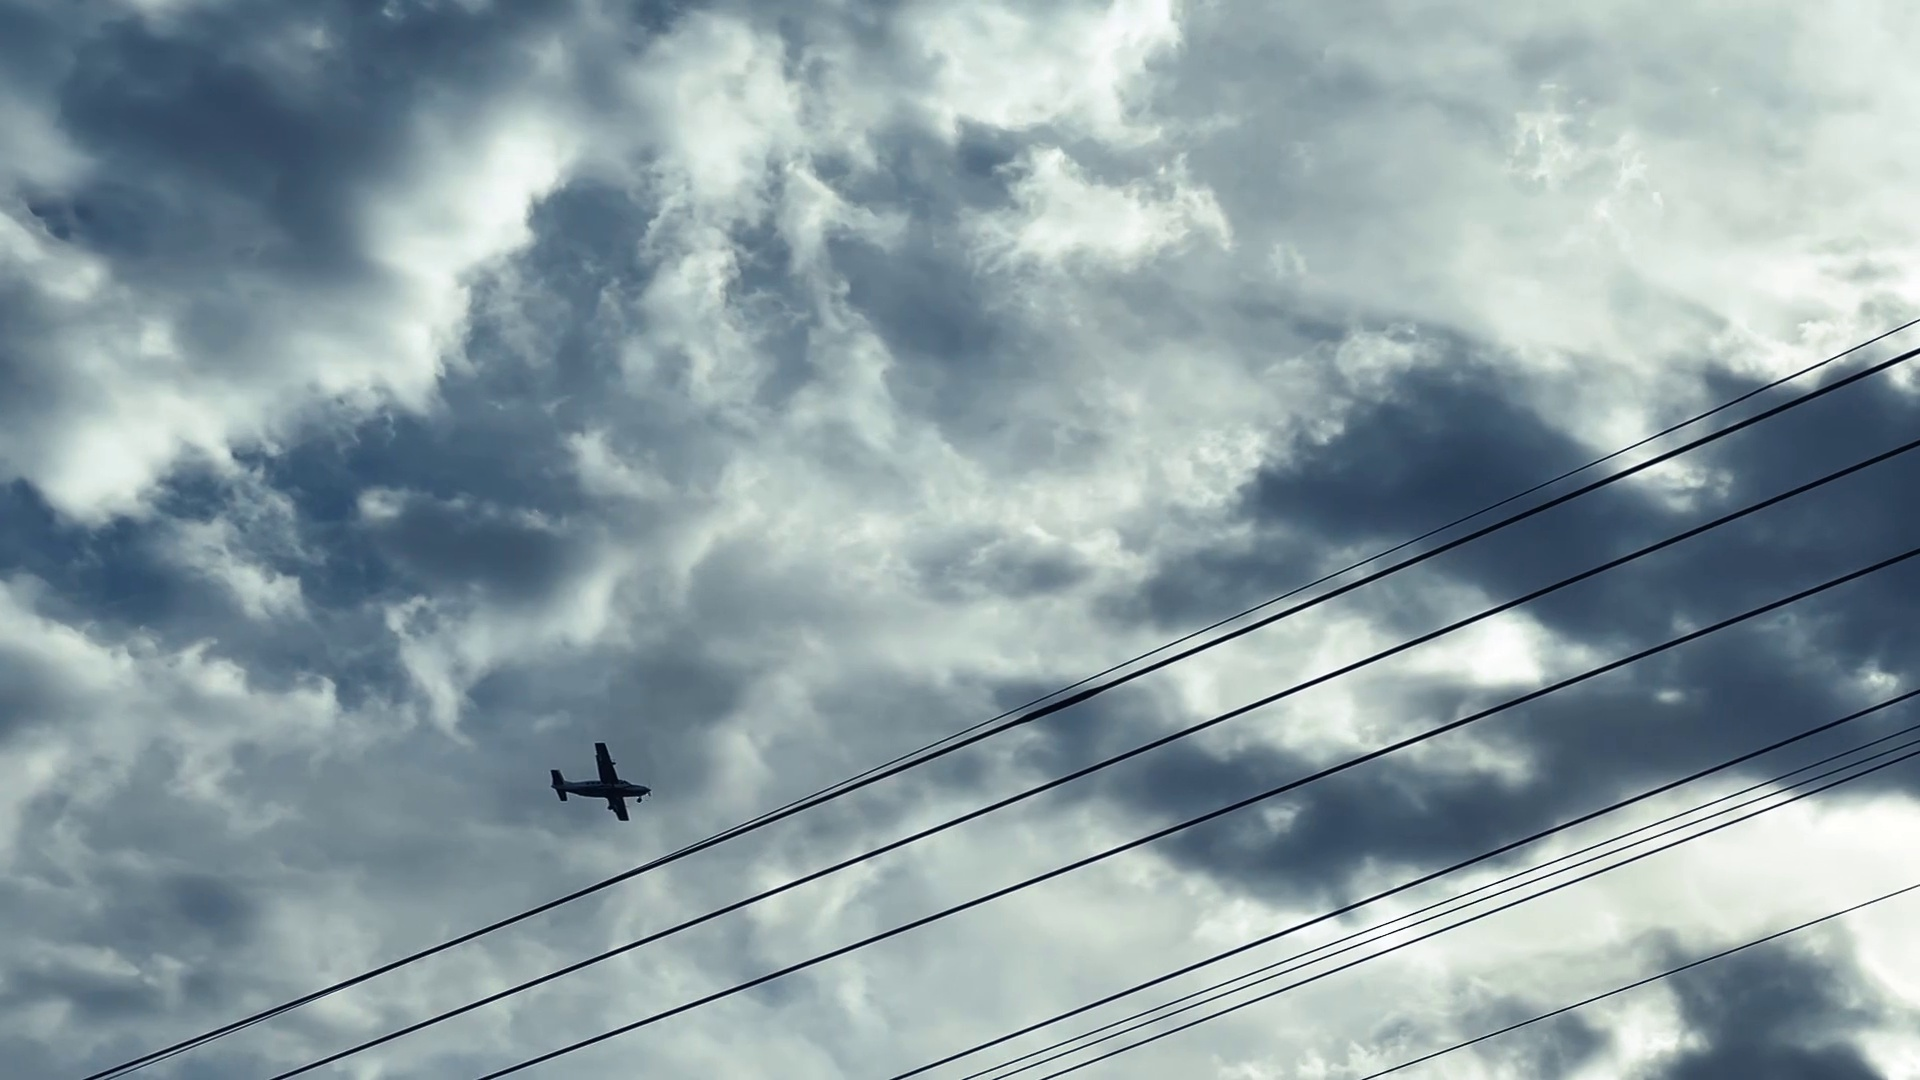plane: (550, 740, 651, 822)
